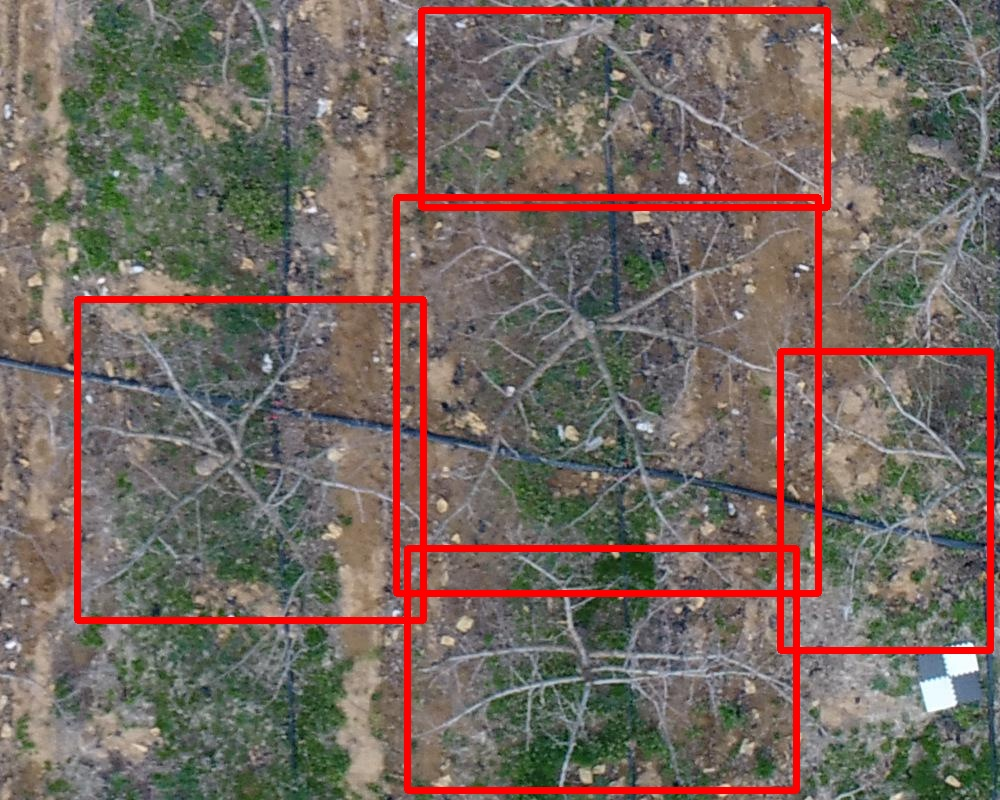apple: (396, 197, 818, 593), (77, 299, 423, 620), (407, 548, 796, 790), (421, 10, 827, 207), (780, 351, 990, 650)
